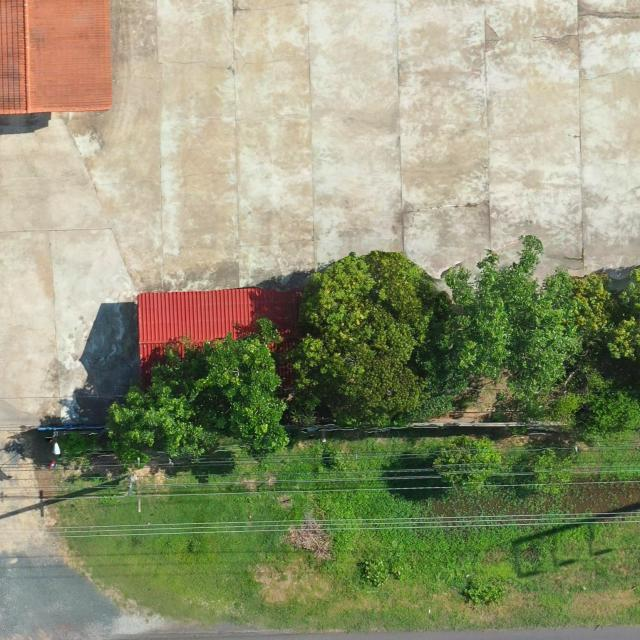Tree: (294, 250, 468, 423), (103, 317, 291, 470), (442, 234, 584, 407), (606, 244, 640, 410), (429, 435, 502, 494), (568, 271, 615, 332), (528, 446, 573, 497)
